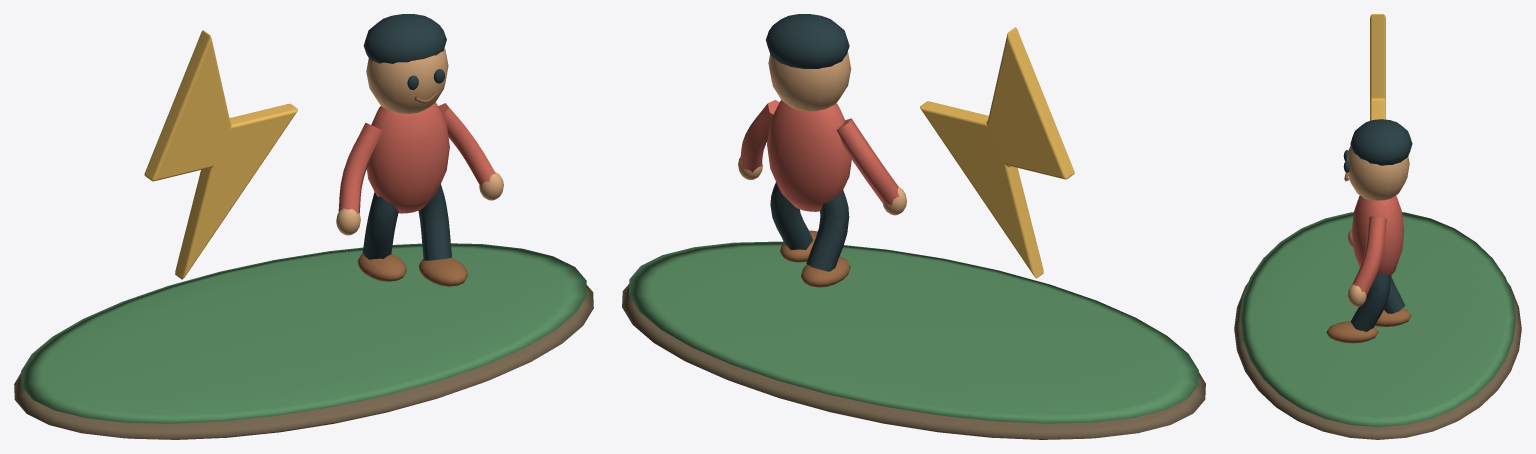
Rendered from electric-child.glb.
3 views of the same model, side by side, from view 1: azimuth 30°, elevation 25°; view 2: azimuth 150°, elevation 25°; view 3: azimuth 270°, elevation 25° (orthographic). The views are drawn at different scales.
Parts seen in each view (by area): view 1: electric-child_surface_01, electric-child_surface_02, electric-child_surface_00, electric-child_surface_06, electric-child_surface_04, electric-child_surface_03, electric-child_surface_05; view 2: electric-child_surface_01, electric-child_surface_02, electric-child_surface_00, electric-child_surface_06, electric-child_surface_04, electric-child_surface_03, electric-child_surface_05; view 3: electric-child_surface_01, electric-child_surface_00, electric-child_surface_04, electric-child_surface_06, electric-child_surface_03, electric-child_surface_02, electric-child_surface_05.
Part boxes in pixels (bbox=[...]): electric-child_surface_01: bbox=[21, 243, 586, 423]; electric-child_surface_02: bbox=[144, 30, 297, 279]; electric-child_surface_00: bbox=[14, 285, 593, 439]; electric-child_surface_06: bbox=[338, 102, 495, 213]; electric-child_surface_04: bbox=[362, 14, 451, 260]; electric-child_surface_03: bbox=[336, 48, 503, 235]; electric-child_surface_05: bbox=[357, 92, 467, 286]; electric-child_surface_01: bbox=[629, 241, 1198, 423]; electric-child_surface_02: bbox=[920, 27, 1074, 278]; electric-child_surface_00: bbox=[622, 284, 1205, 439]; electric-child_surface_06: bbox=[740, 100, 899, 211]; electric-child_surface_04: bbox=[766, 14, 849, 271]; electric-child_surface_03: bbox=[738, 51, 906, 215]; electric-child_surface_05: bbox=[780, 230, 850, 287]; electric-child_surface_01: bbox=[1240, 212, 1515, 426]; electric-child_surface_00: bbox=[1234, 282, 1521, 439]; electric-child_surface_04: bbox=[1343, 119, 1412, 331]; electric-child_surface_06: bbox=[1351, 195, 1404, 296]; electric-child_surface_03: bbox=[1347, 145, 1409, 307]; electric-child_surface_02: bbox=[1370, 14, 1385, 120]; electric-child_surface_05: bbox=[1326, 172, 1411, 343].
Bounding box in the file's own units: 4.56 × 2.78 × 2.5.
